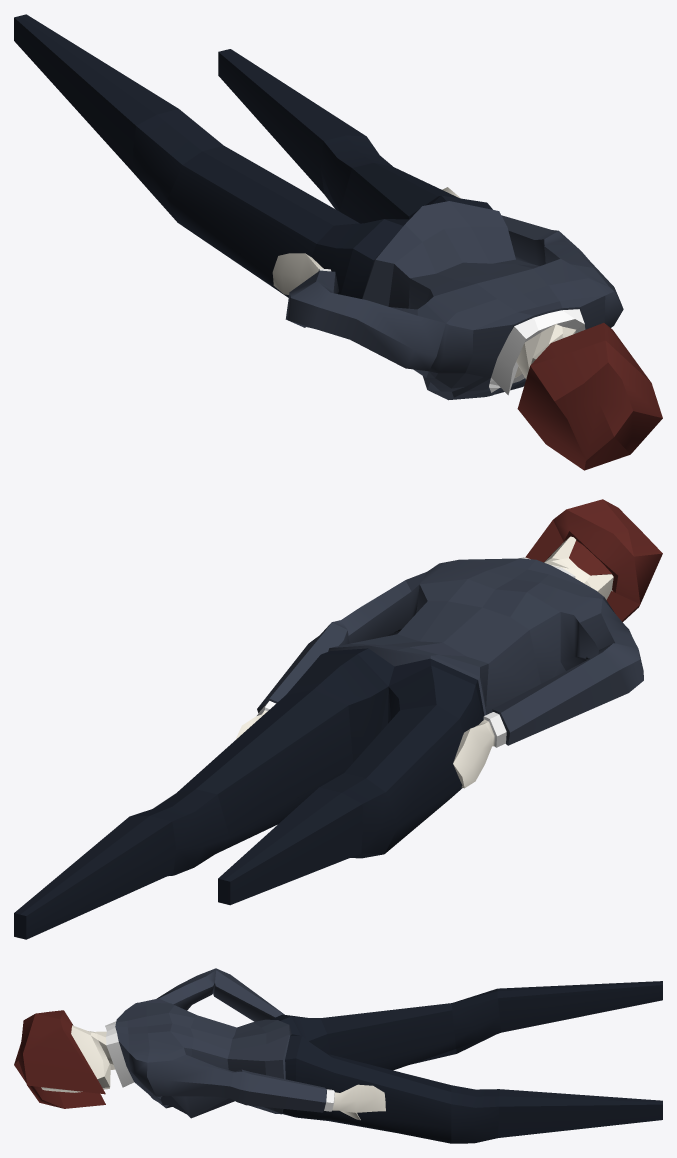
Rendered from modelposed.obj.
The picture shows the model from 3 angles, top to bottom: view 1: azimuth 30°, elevation 25°; view 2: azimuth 150°, elevation 25°; view 3: azimuth 270°, elevation 25°; orthographic projection. The views are drawn at different scales.
Visible parts, largest first — view 1: polySurface4; view 2: polySurface4; view 3: polySurface4.
Part boxes in pixels (x1,y1,x2,y2): polySurface4: (14, 14, 662, 470); polySurface4: (14, 499, 662, 939); polySurface4: (14, 968, 662, 1143).
Size of the model in its own units: 5.63 by 2.71 by 15.73.
Materials: 1 (1 with a texture image).
